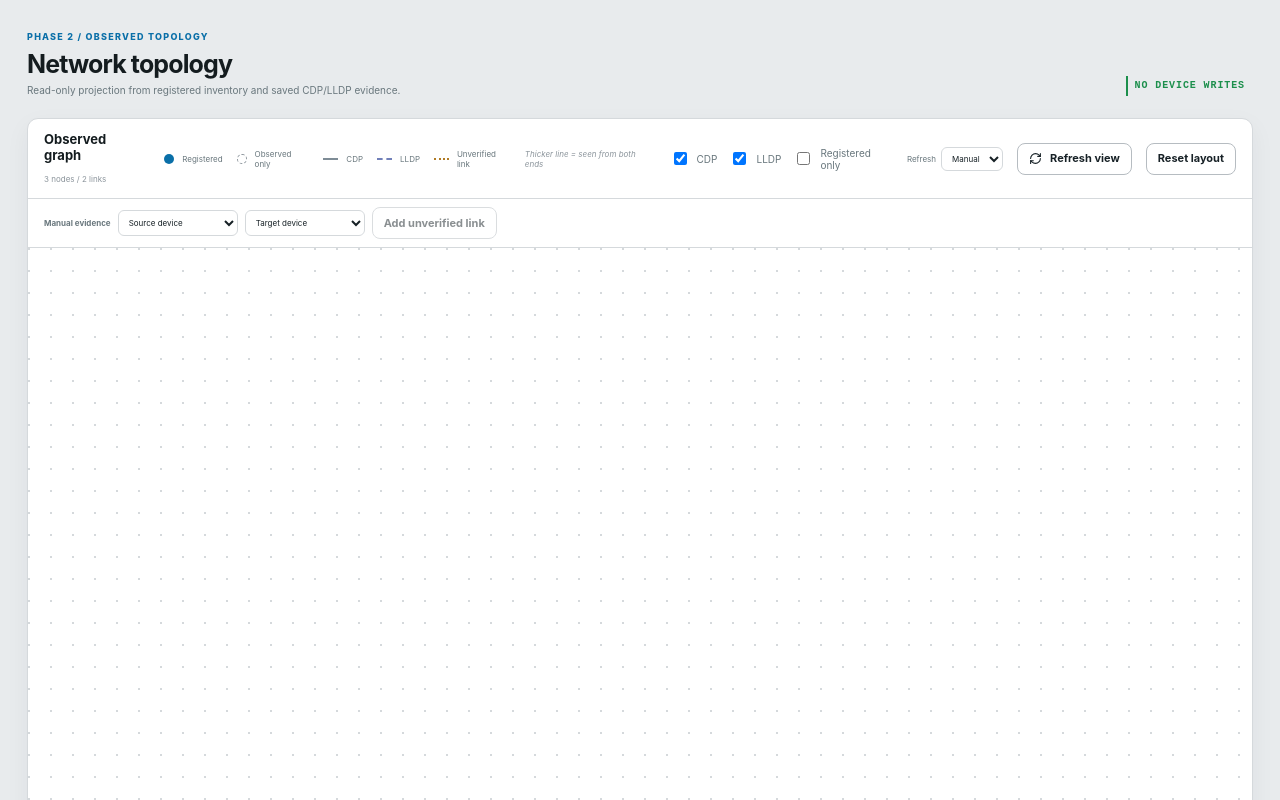
Test: TopologyPage read-only projection › filters out a protocol and its now-orphaned observed node when unchecked
Check: the text "3 nodes / 2 links" is shown, box x1=44 y1=174 x2=106 y2=184
Click the checkbox labelled "LLDP" at (740, 158), box x1=734 y1=152 x2=746 y2=165
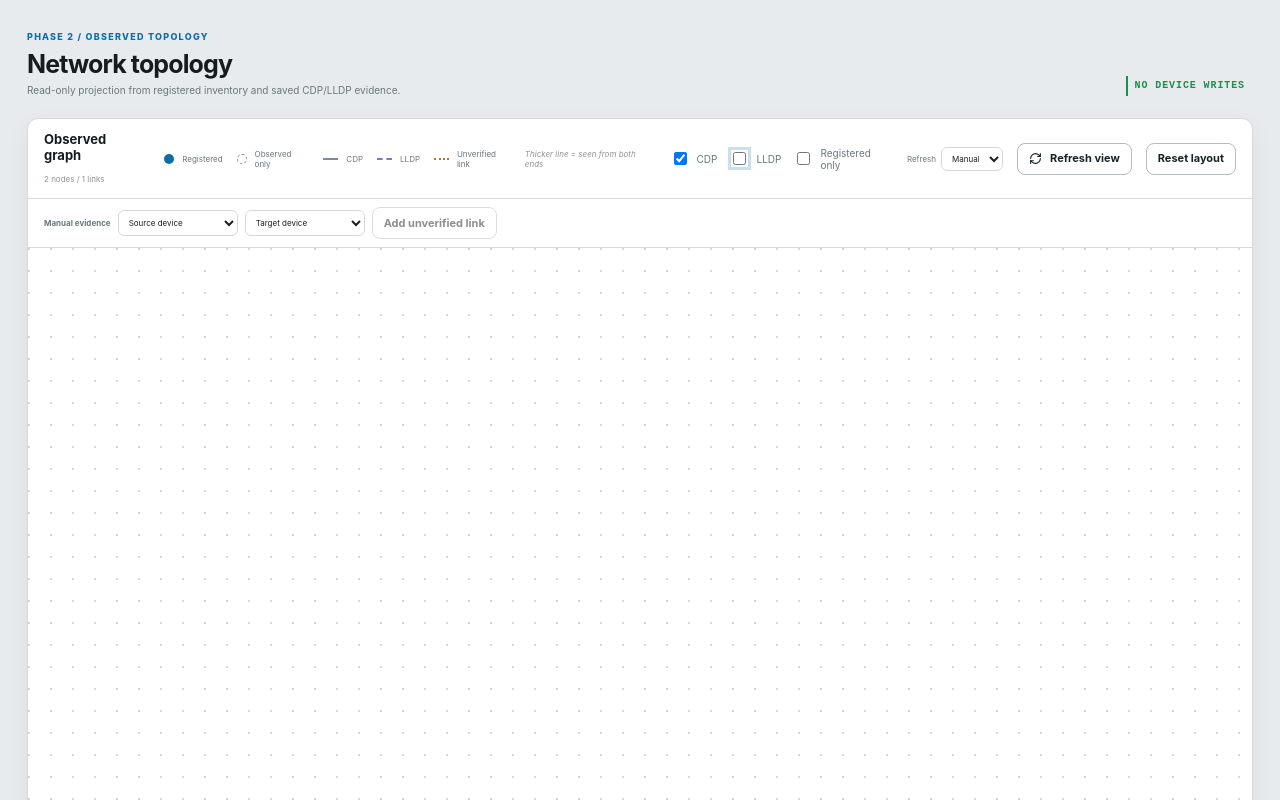
Check: the text "2 nodes / 1 links" is shown, box x1=44 y1=174 x2=105 y2=184
